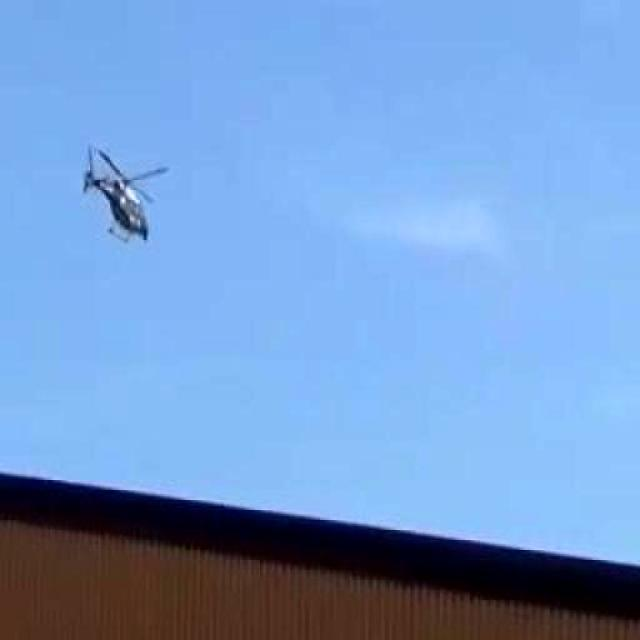drone: (62, 125, 192, 279)
